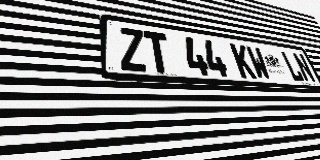4: (181, 36, 210, 76), (201, 39, 229, 77)
K: (230, 43, 257, 79)
L: (280, 51, 305, 82)
N: (292, 52, 317, 82)
T: (143, 31, 173, 74)
W: (245, 45, 272, 80)
Z: (118, 27, 148, 72)
